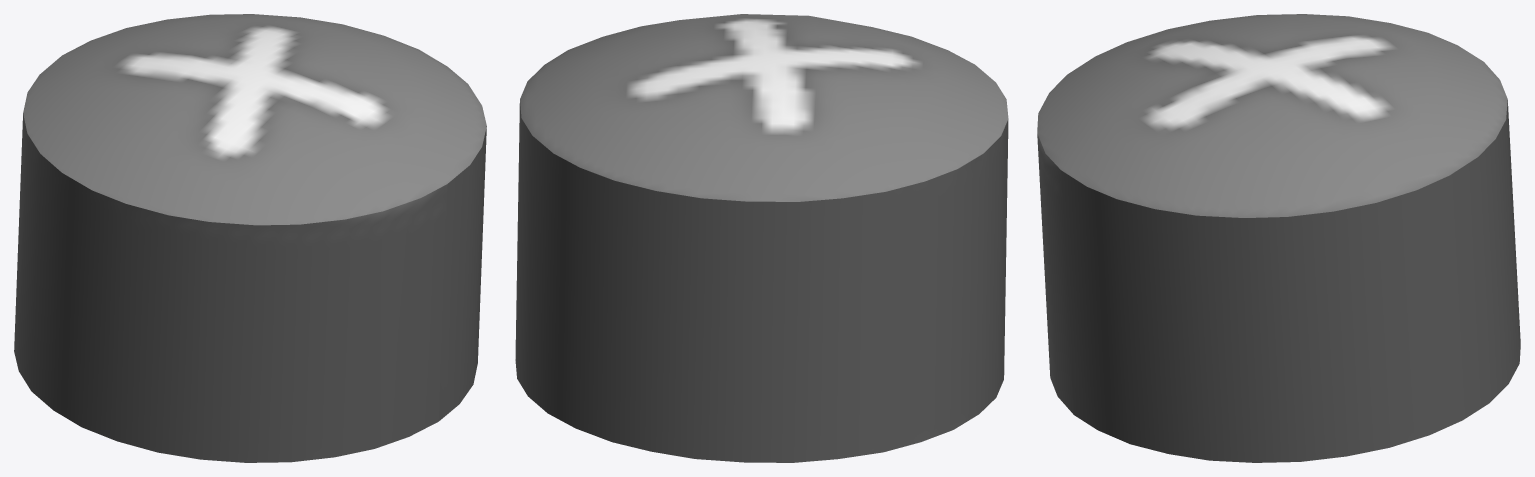
3 views of the same model, side by side, from view 1: azimuth 30°, elevation 25°; view 2: azimuth 150°, elevation 25°; view 3: azimuth 270°, elevation 25° (orthographic). The views are drawn at different scales.
Bounding box in the file's own units: 0.00964 × 0.00682 × 0.00984.
Materials: 1 (1 with a texture image).
